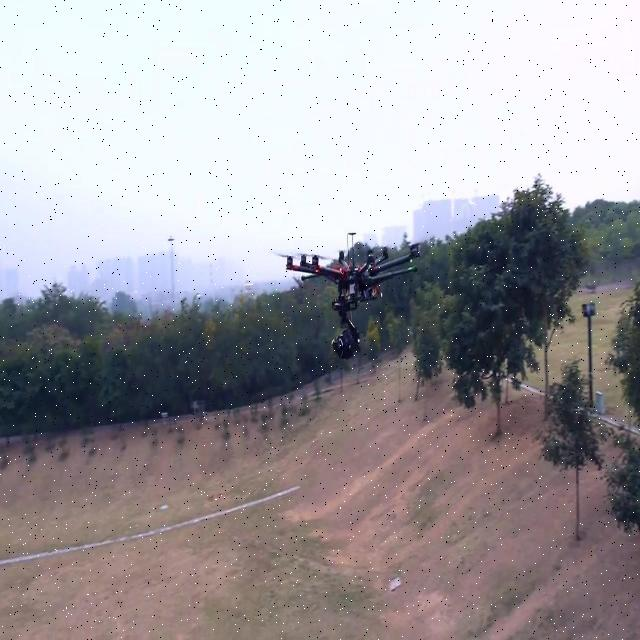UAV: (273, 232, 421, 360)
